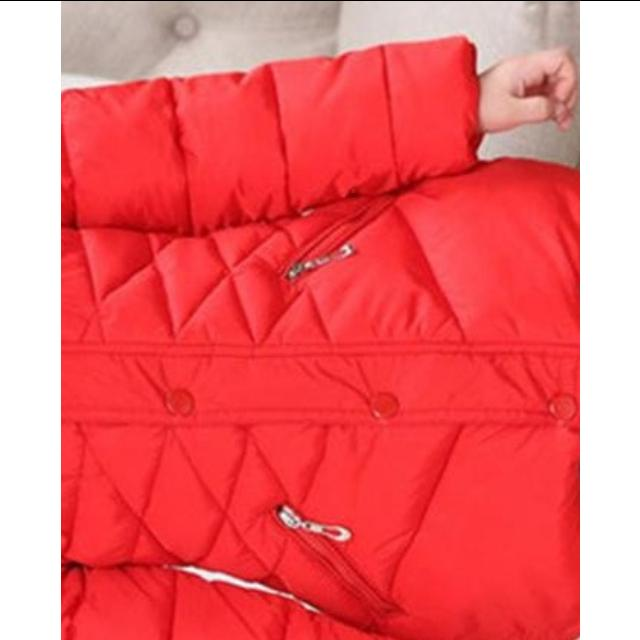cotton: (61, 96, 580, 640)
